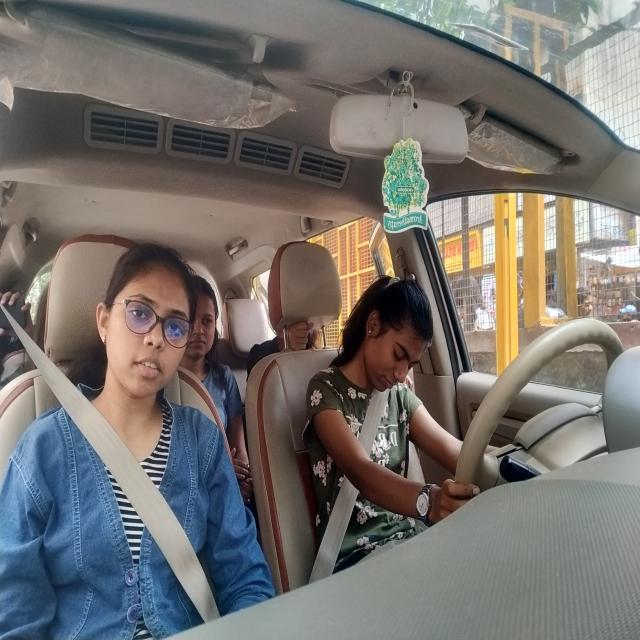drowsy: (348, 274, 436, 402)
person: (91, 240, 198, 402), (189, 268, 221, 363)
